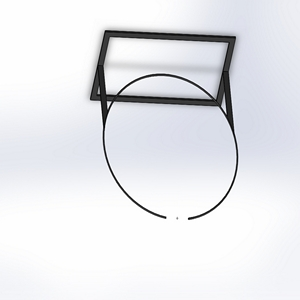circle: (87, 28, 240, 221)
